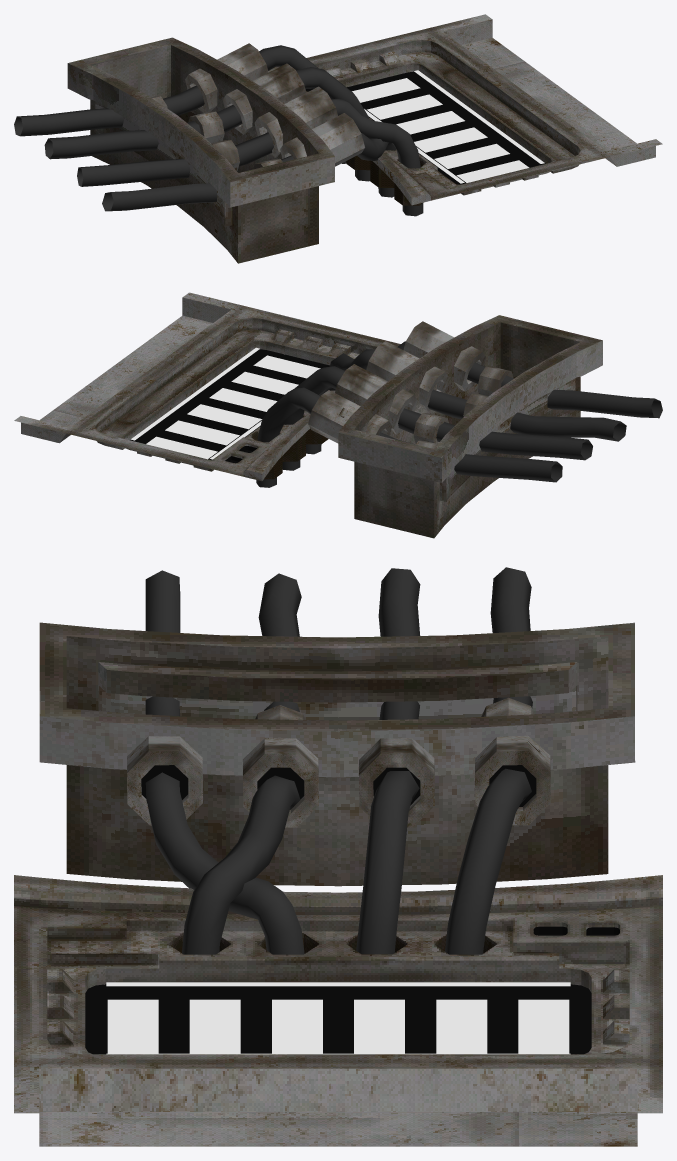
Rendered from health indicator new1.glb.
3 views of the same model, one above another, from view 1: azimuth 30°, elevation 25°; view 2: azimuth 150°, elevation 25°; view 3: azimuth 270°, elevation 25° (orthographic). The views are drawn at different scales.
Visible parts, largest first — view 1: health indicator base4, Cube_010, Cube_005, Cube_013, Cube_009, Cube_008, Cube_003, Cube_012; view 2: health indicator base4, Cube_008, Cube_010, Cube_013, Cube_005, Cube_003, Cube_009, Cube_012; view 3: health indicator base4, Cube_003, Cube_005, Cube_009, Cube_010, Cube_008, Cube_013, Cube_004, Cube_012.
Part boxes in pixels (box(x1,y1,x2,y2)): health indicator base4: box(14, 14, 662, 263); Cube_010: box(367, 94, 442, 119); Cube_005: box(434, 143, 509, 168); Cube_013: box(414, 127, 487, 152); Cube_009: box(352, 78, 420, 102); Cube_008: box(396, 111, 464, 134); Cube_003: box(456, 160, 529, 182); Cube_012: box(414, 70, 544, 163); health indicator base4: box(14, 292, 662, 538); Cube_008: box(187, 404, 262, 429); Cube_010: box(165, 420, 239, 445); Cube_013: box(209, 388, 277, 411); Cube_005: box(231, 371, 298, 394); Cube_003: box(253, 355, 320, 378); Cube_009: box(146, 436, 217, 459); Cube_012: box(131, 347, 259, 440); health indicator base4: box(14, 567, 662, 1146); Cube_003: box(107, 999, 158, 1053); Cube_005: box(189, 999, 240, 1053); Cube_009: box(518, 999, 569, 1053); Cube_010: box(436, 999, 487, 1053); Cube_008: box(354, 999, 404, 1053); Cube_013: box(272, 999, 322, 1053); Cube_004: box(106, 982, 570, 986); Cube_012: box(106, 1053, 570, 1054).
Bounding box in the file's own units: 4.48 × 1.01 × 2.67.
Materials: 12 (2 with a texture image).
